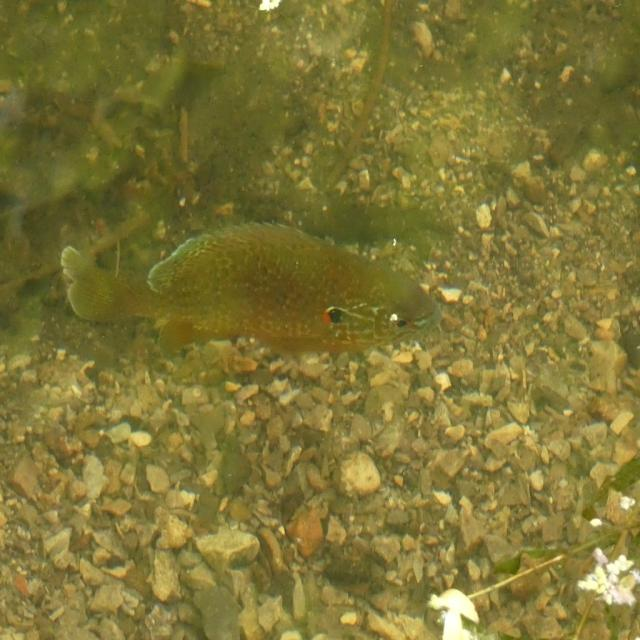Gunes Levregi: (58, 218, 443, 358)
